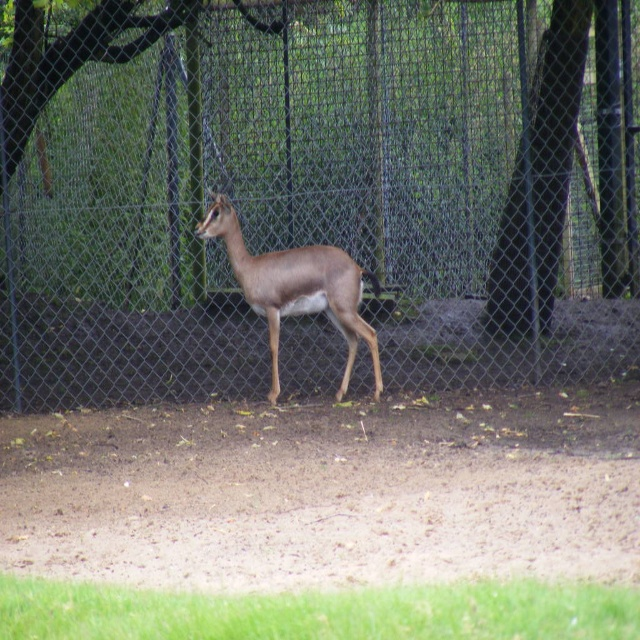Deer: (194, 181, 384, 403)
